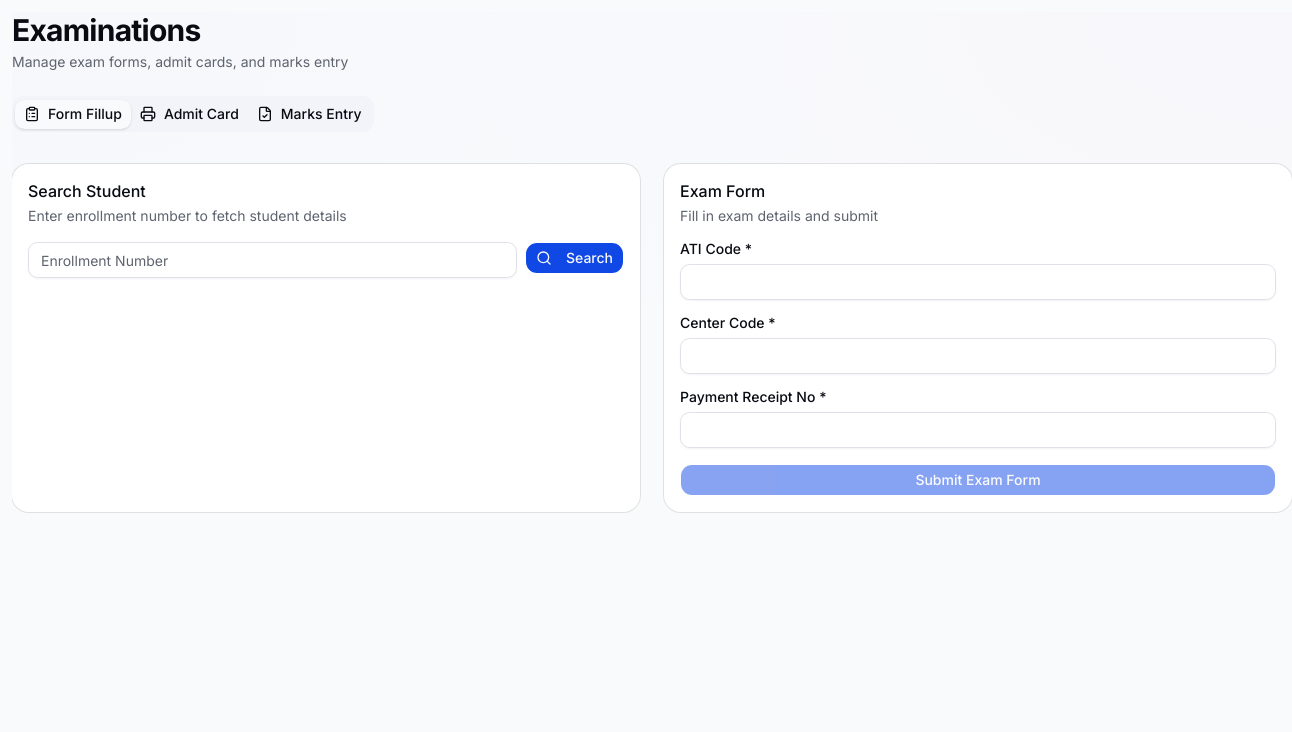
Test: Exams Feature › should search for a student and display their info
The image size is (1292, 732).
Type "12345" into the field with placeholder "Enrollment Number" at (272, 260), box [28, 242, 517, 278]
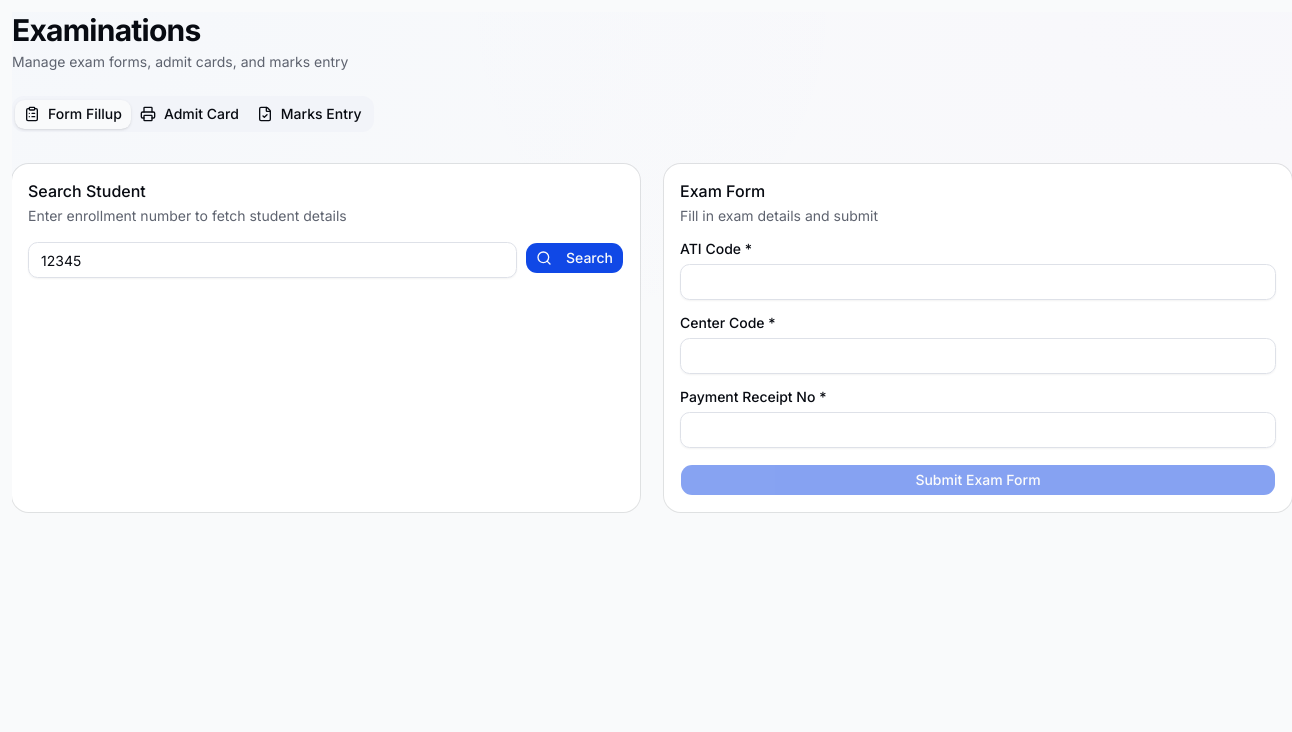
Click the button "Search" at (574, 258), box [525, 242, 624, 274]
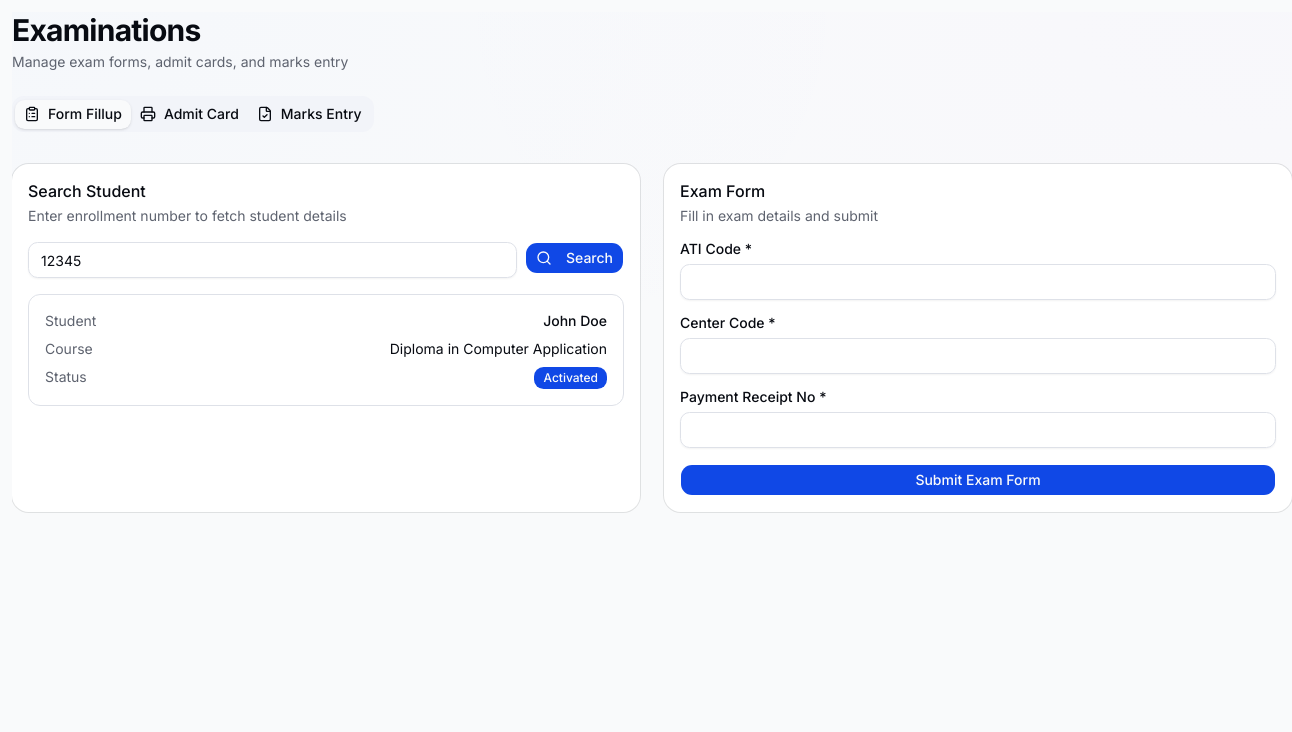
Expected: the text "John Doe" is shown, [543, 311, 607, 331]
Expected: the text "Diploma in Computer Application" is shown, [390, 339, 607, 359]
